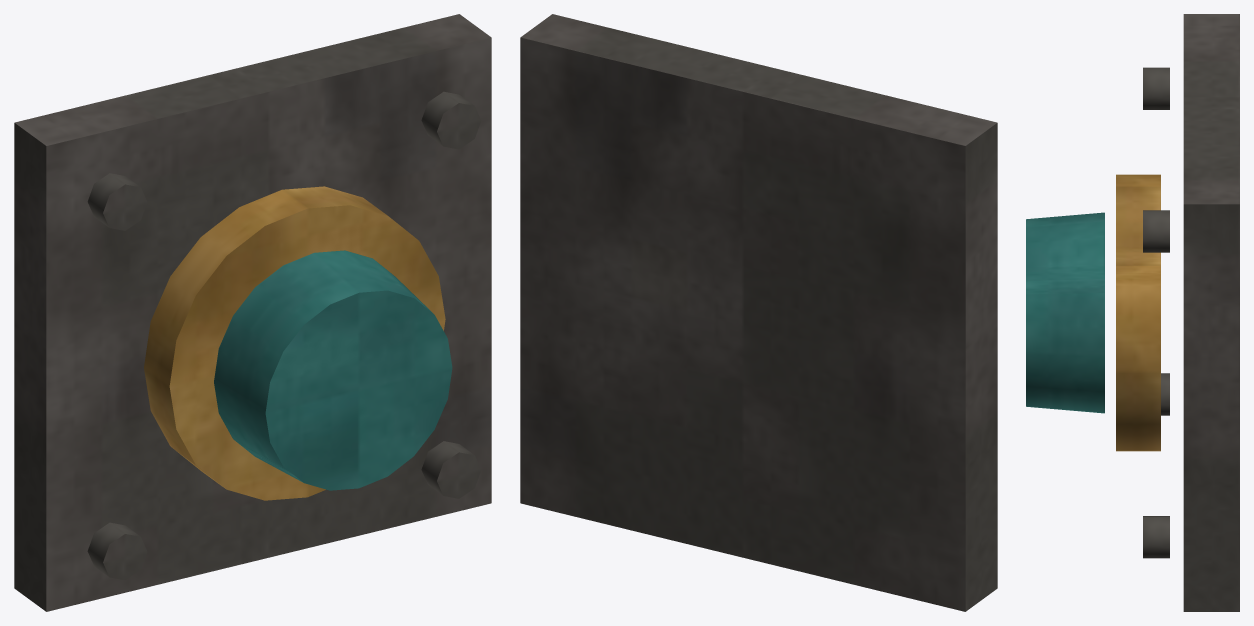
Rendered from wall-button.glb.
3 views of the same model, side by side, from view 1: azimuth 30°, elevation 25°; view 2: azimuth 150°, elevation 25°; view 3: azimuth 270°, elevation 25° (orthographic). The views are drawn at different scales.
Visible parts, largest first — view 1: Frame, Cap; view 2: Frame; view 3: Frame, Cap.
Boxes of the visible parts, x1,y1,x2,y2 form: Frame: (14,14,491,611); Cap: (214,250,452,490); Frame: (520,14,997,611); Frame: (1116,14,1239,611); Cap: (1026,212,1104,413).
Bounding box in the file's own units: 0.2 × 0.2 × 0.095.
3 materials, 3 textured.
